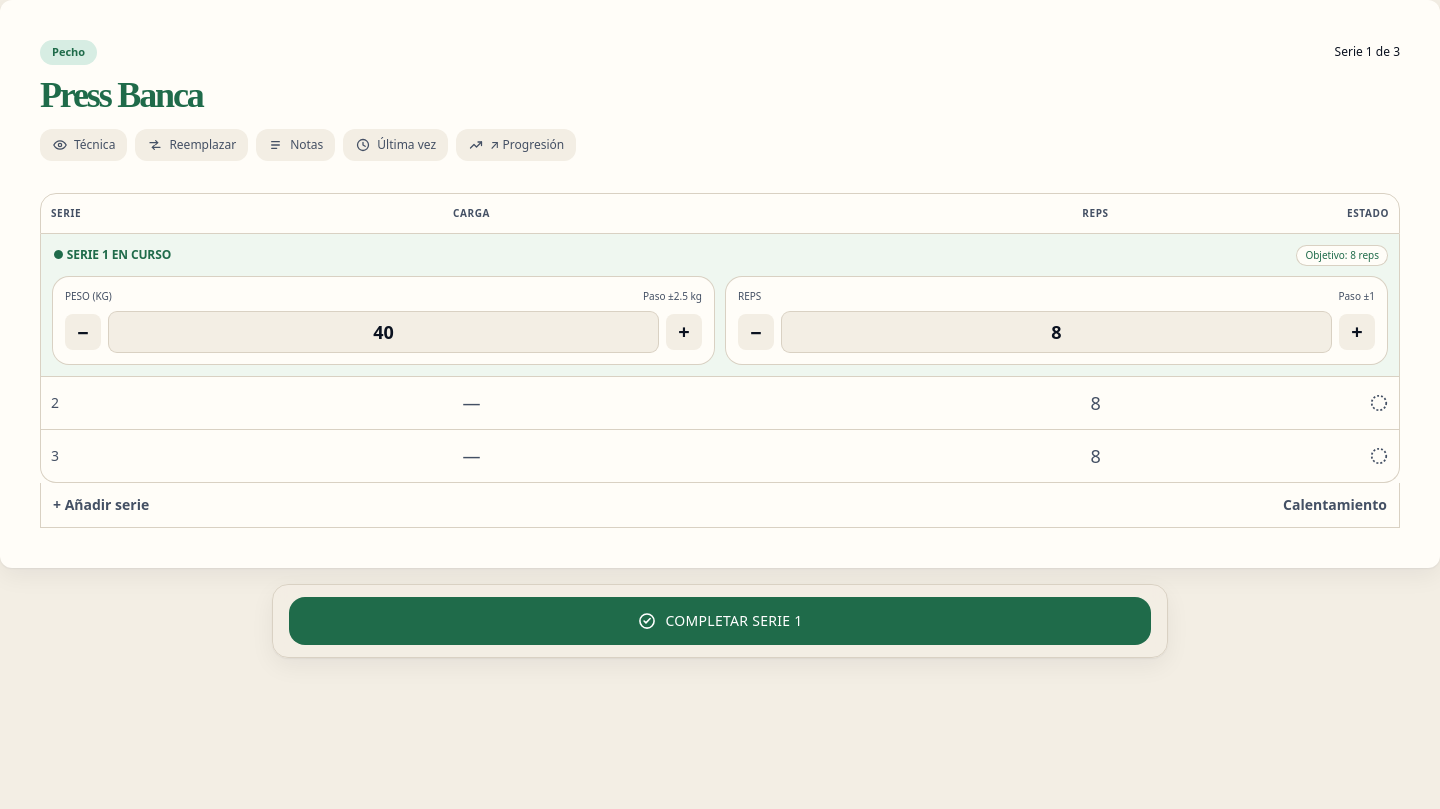
GuidedExerciseCard › keeps guided-exercise-image visible when imageUrl is null
Click the button with aria-label "Mostrar técnica". click: (84,144)
box: 40,128 -> 127,160
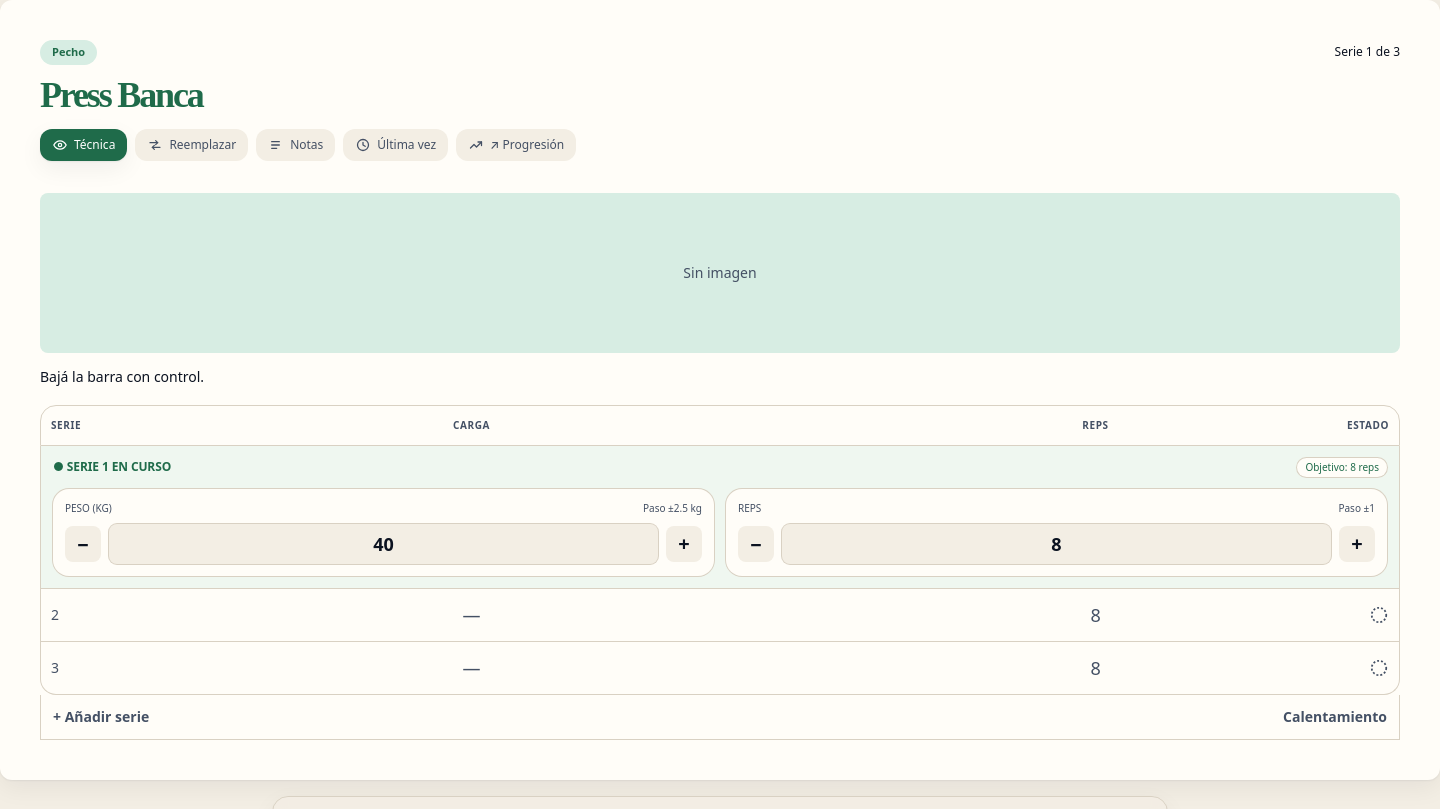
Check: the picture with test id "guided-exercise-image" reads "Sin imagen", box 683,262 -> 757,282
